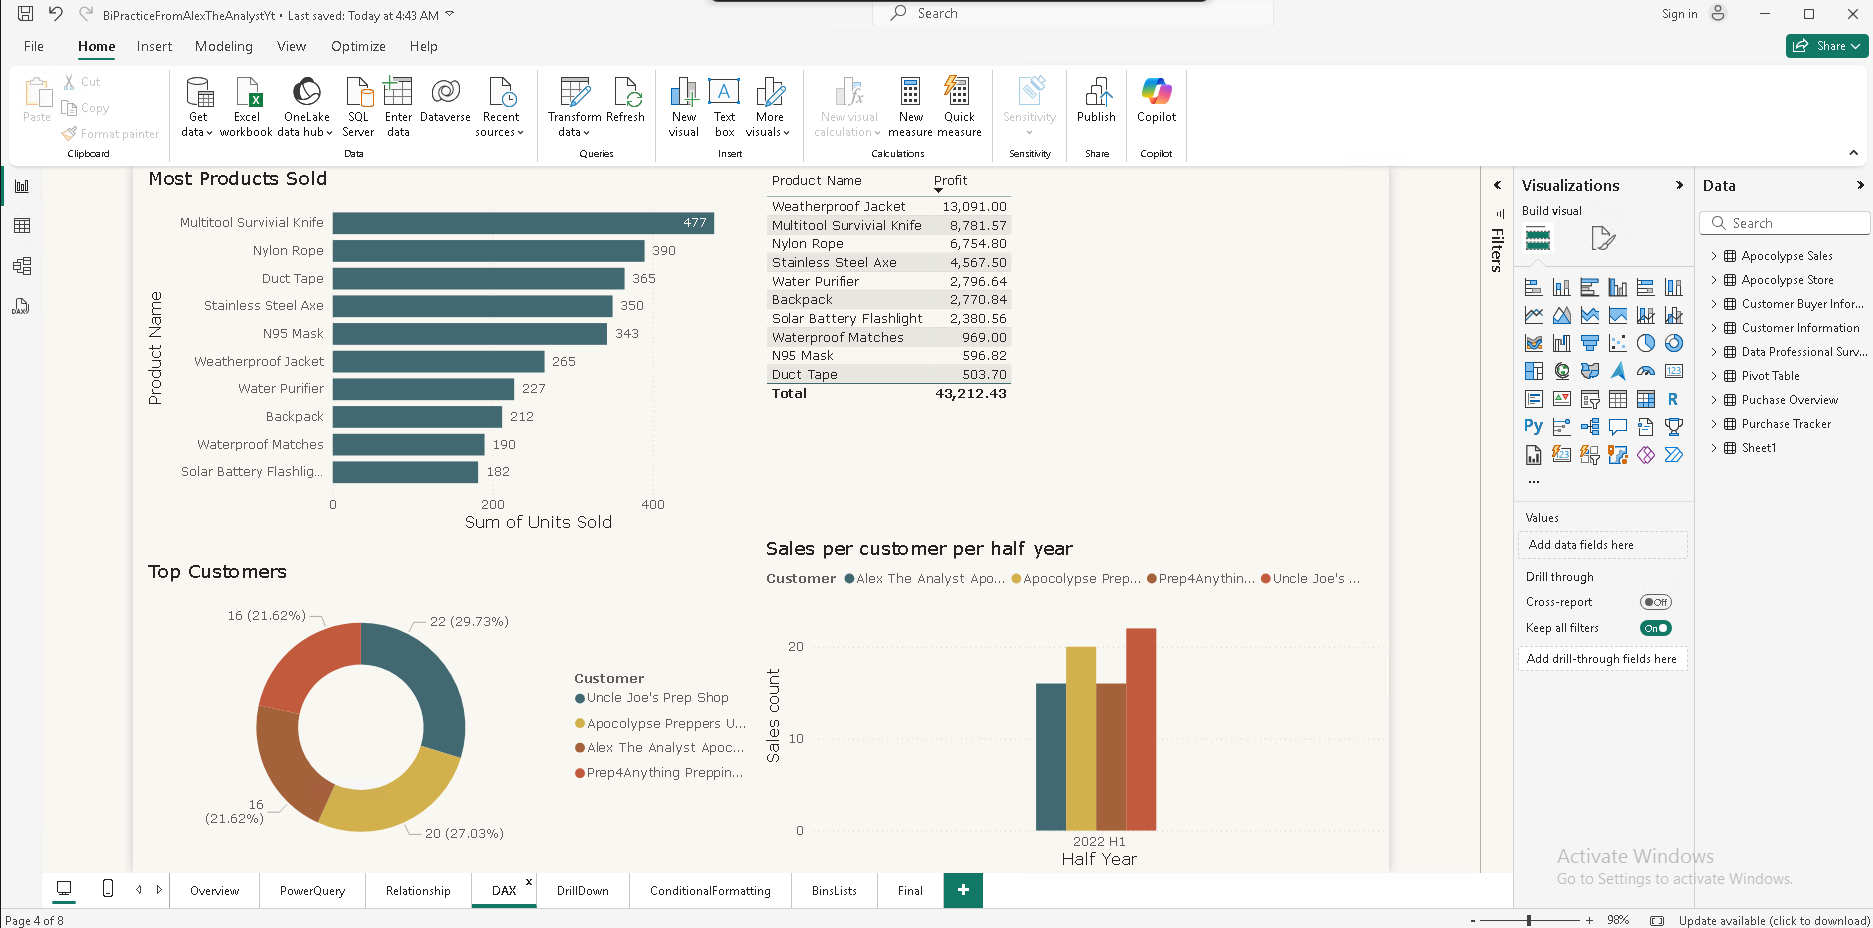

Layout of this report page (visuals, bound fields, positions):
{"tool":"powerbi","page":{"name":"DAX","canvas":[1280,720],"ordinal":3},"visuals":[{"type":"barChart","title":"Most Products Sold","fields":{"Category":["Apocolypse Store.Product Name"],"Y":["Apocolypse Sales.Units Sold"]},"box":[9.8,0,629.8,376.7],"z":0},{"type":"donutChart","title":"Top Customers","fields":{"Category":["Customer Information.Customer"],"Y":["Apocolypse Sales.Sales count"]},"box":[9.8,400.2,629.8,319.8],"z":1000},{"type":"tableEx","fields":{"Values":["Apocolypse Store.Product Name","Apocolypse Store.Proftt"]},"box":[639.6,0,269.8,360],"z":2000},{"type":"clusteredColumnChart","title":"Sales per customer per half year","fields":{"Category":["Apocolypse Sales.Half Year"],"Series":["Apocolypse Sales.Customer"],"Y":["Apocolypse Sales.Sales count"]},"box":[639.6,376.7,640.5,343.3],"z":2001}]}

Visuals, with their boxes on the page's 1280x720 design canvas (x1, y1, x2, y2). These are canvas units, not pixel positions in the 1873x928 screenshot, which may show the page scaled, cropped or inside an application window:
"Most Products Sold" barChart: bbox=(10, 0, 640, 377)
"Top Customers" donutChart: bbox=(10, 400, 640, 720)
tableEx - Apocolypse Store.Product Name x Apocolypse Store.Proftt: bbox=(640, 0, 909, 360)
"Sales per customer per half year" clusteredColumnChart: bbox=(640, 377, 1280, 720)
